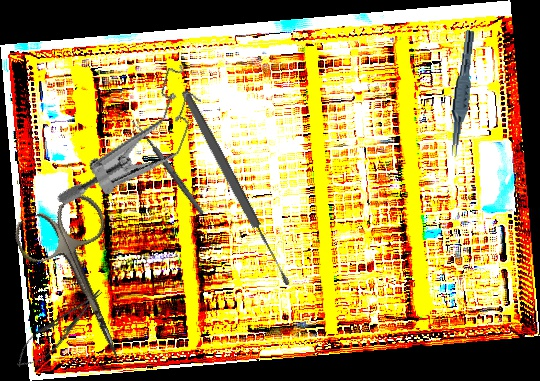Iris Scissors: (9, 190, 157, 376)
Needle Holder: (9, 280, 111, 377)
Speculum: (53, 39, 214, 238)
Surgical Spoon: (179, 88, 293, 288), (131, 118, 206, 216)
Tissue Forceps: (447, 29, 476, 158)
